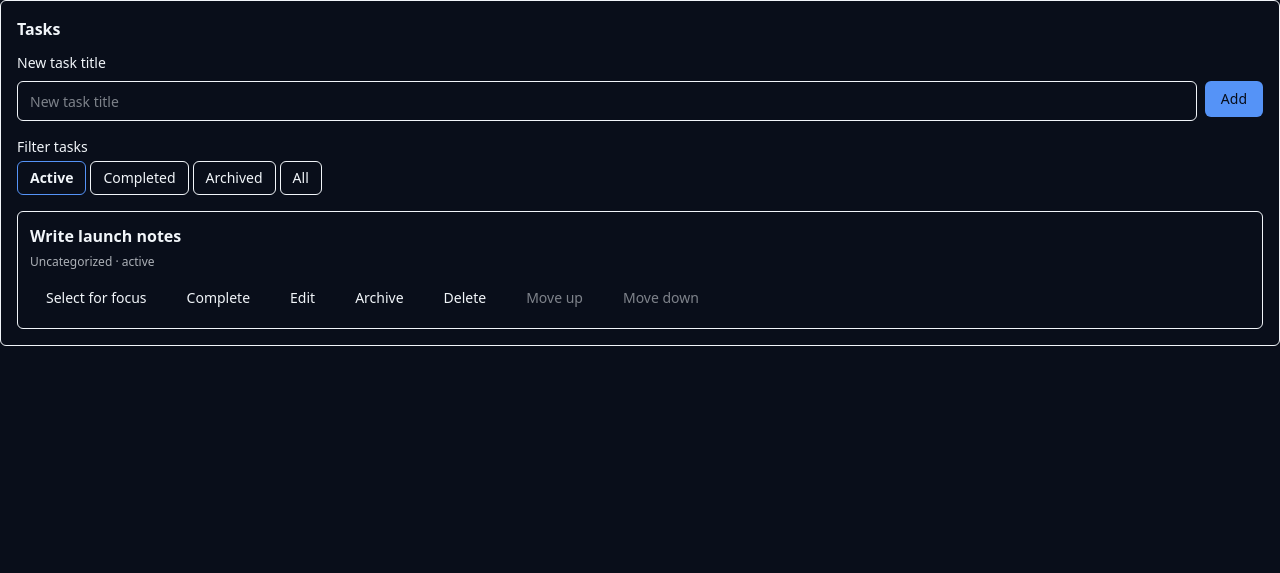
Test: <TaskPanel /> row actions (slice 4) › associates edit validation errors with their fields
The image size is (1280, 573).
Expected: the list item "Write launch notes" is shown, top-left (30, 225), bottom-right (181, 247)
Click the button "Edit". click: [303, 298]
box: top-left (274, 280), bottom-right (331, 316)
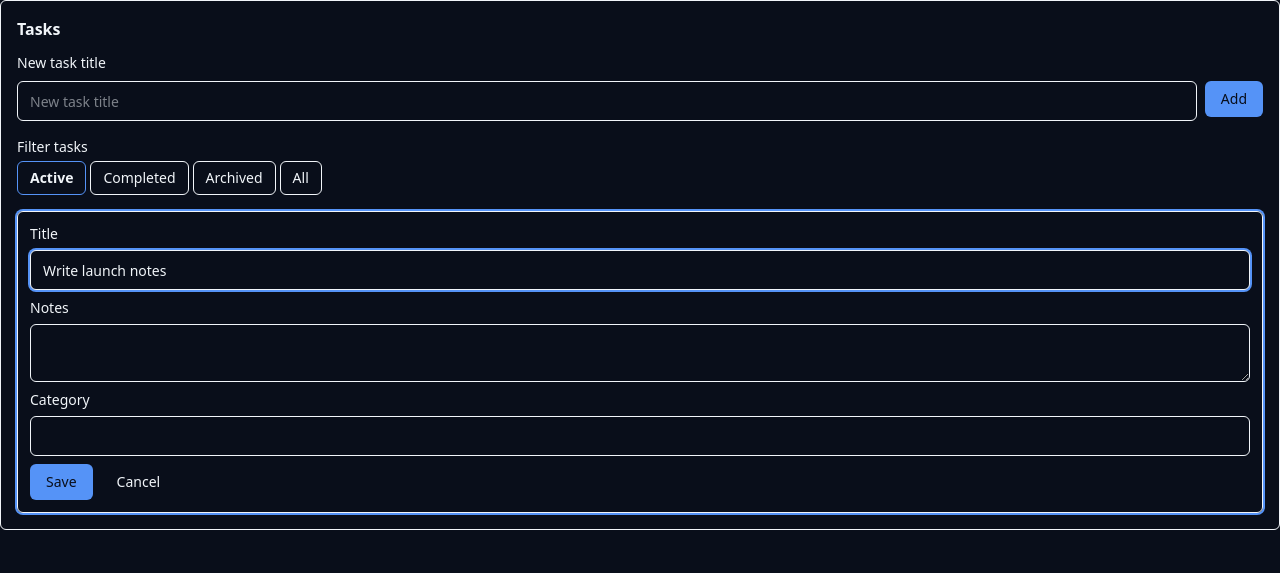
Clear the field labelled "Title". click: [640, 270]
box: top-left (30, 250), bottom-right (1250, 290)
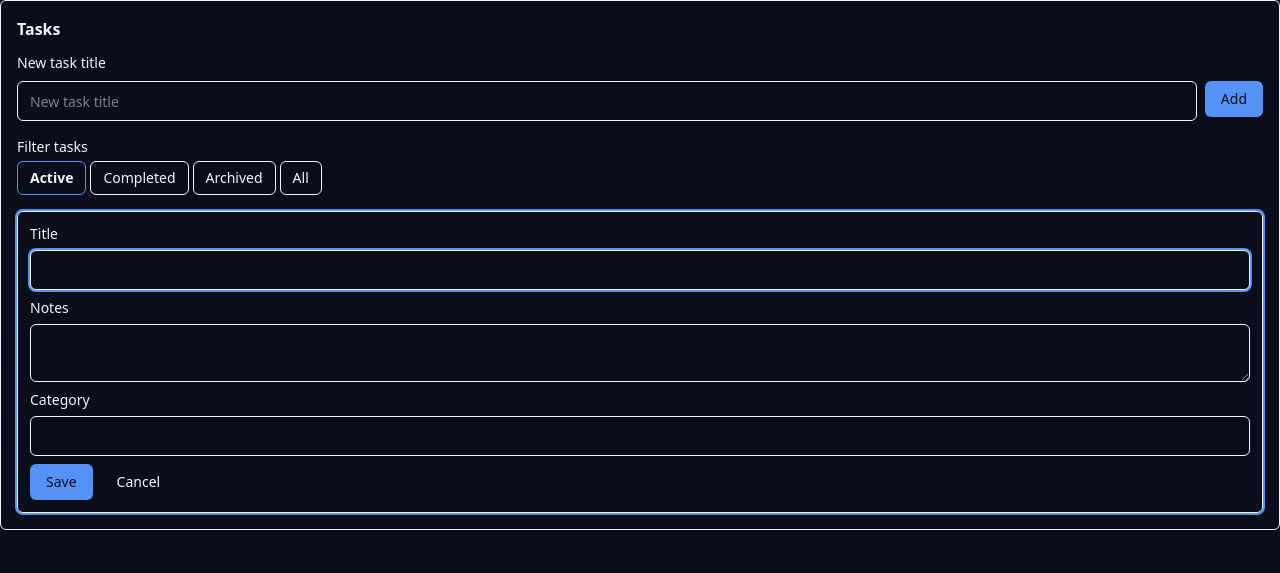
Click the button "Save". click: [61, 482]
box: top-left (30, 464), bottom-right (93, 500)
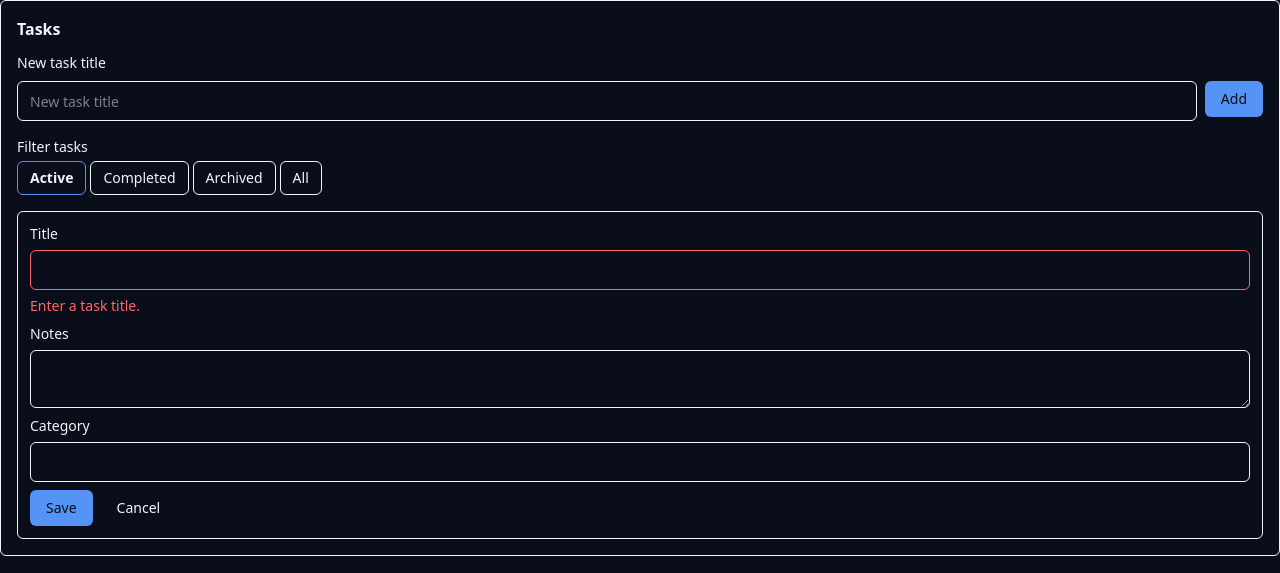
Now the button "Cancel" is shown, box top-left (101, 490), bottom-right (176, 526)
Now the message shows "Enter a task title", box top-left (30, 296), bottom-right (140, 315)
